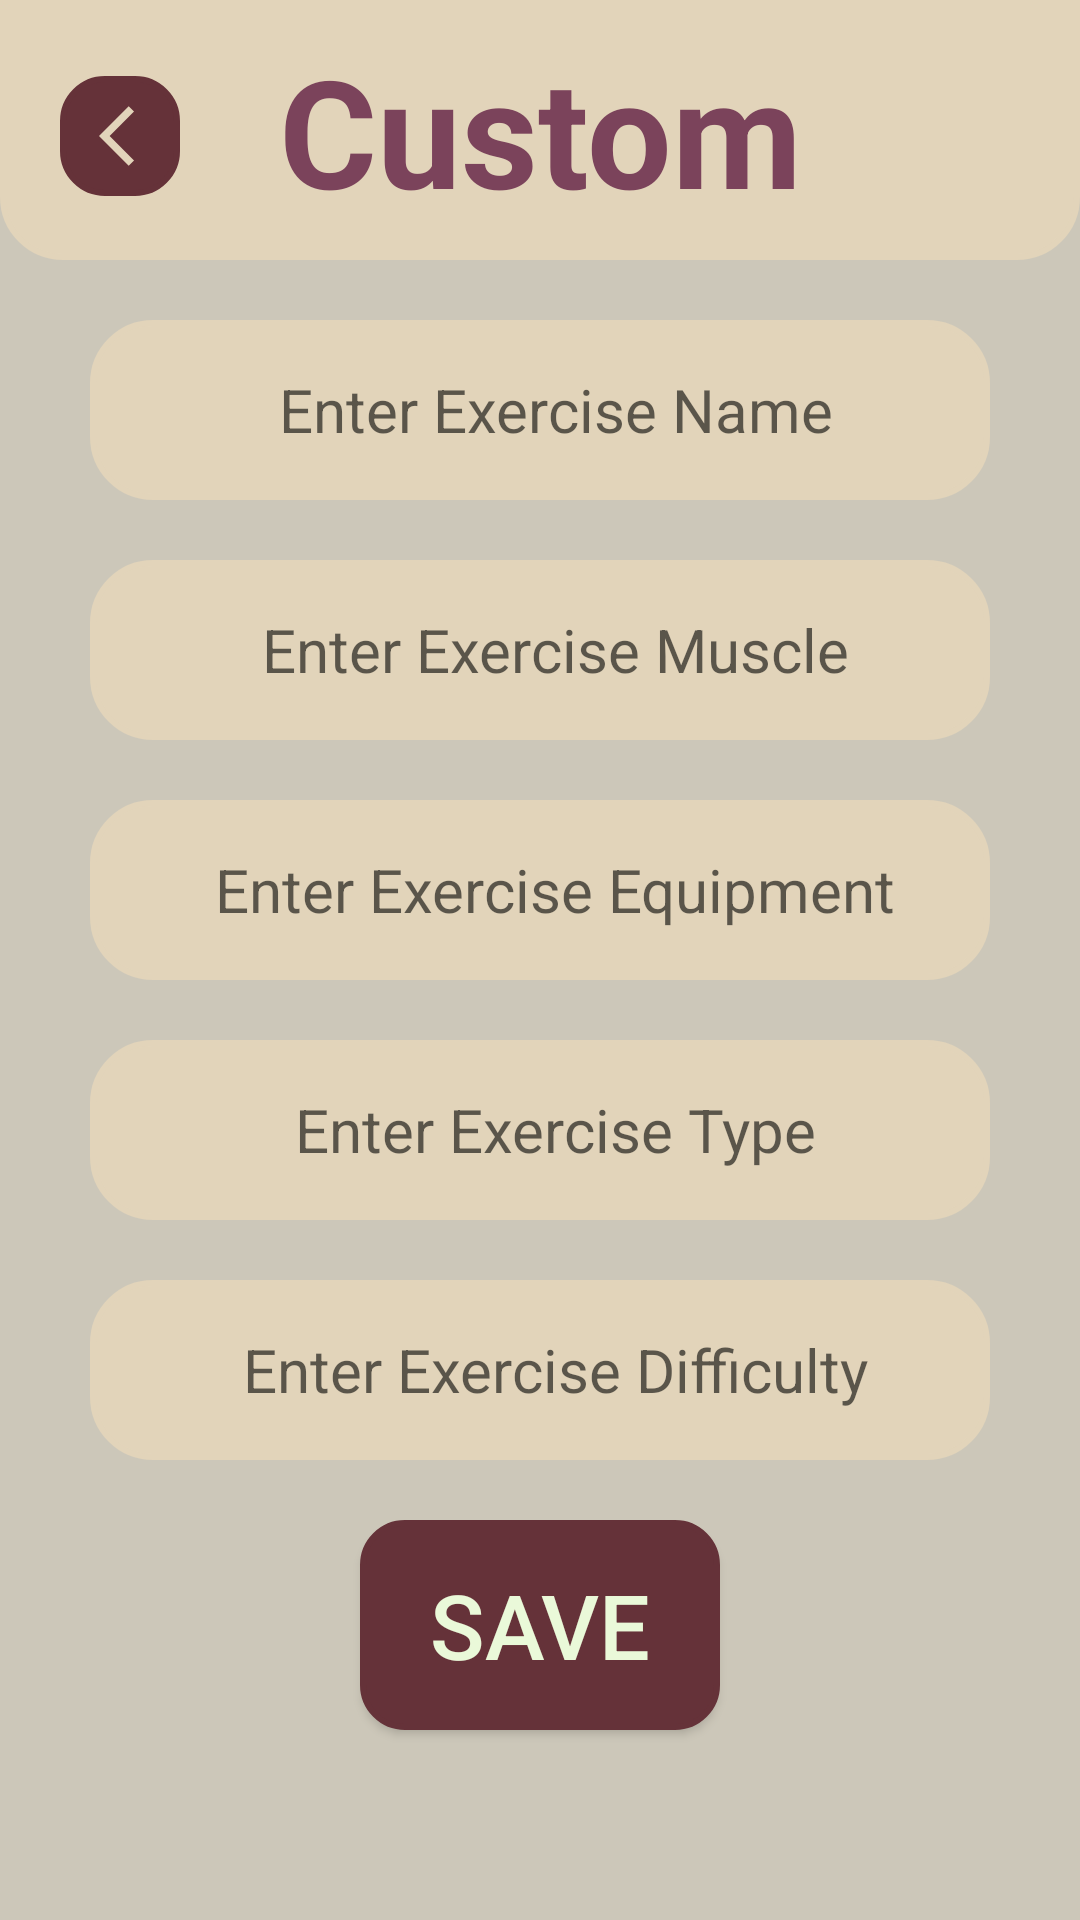

Where to tap for icons on this 1080×1920 app screen, as (x,y):
back: (120,136)
